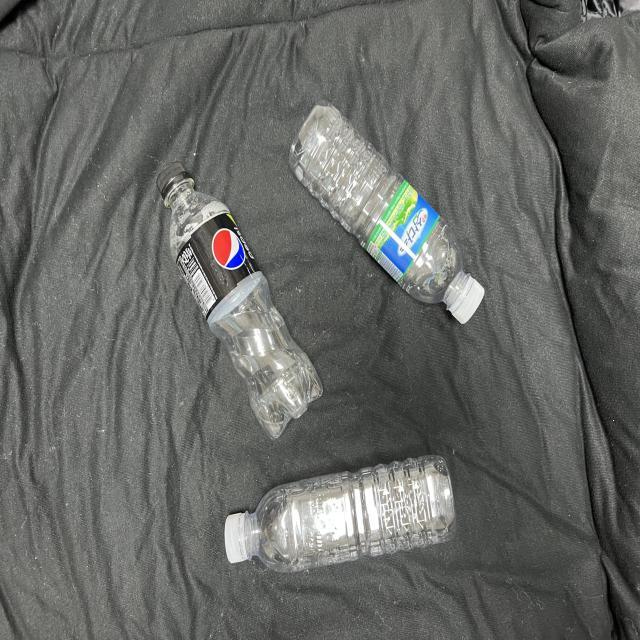good: (132, 139, 338, 457), (270, 80, 500, 341), (214, 437, 470, 587)
